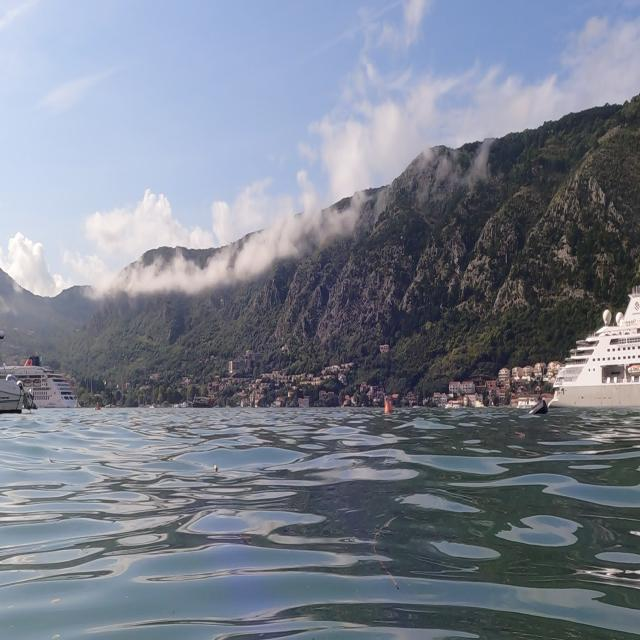boat: (546, 285, 638, 414)
buoy: (526, 394, 552, 424), (379, 392, 399, 420)
